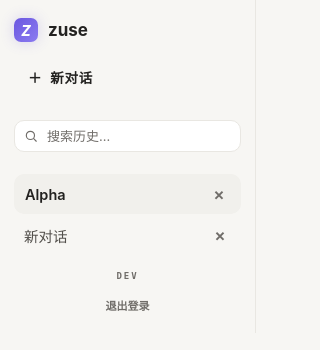
Test: Sidebar › clearing the search box restores the session list
In the field with placeholder "搜索历史…": (128, 136) [14, 120, 241, 152], type "needle"
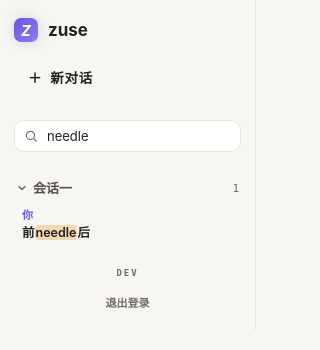
Check: the text "会话一" is shown, box [33, 180, 72, 196]
Clear the field with placeholder "搜索历史…": (128, 136) [14, 120, 241, 152]
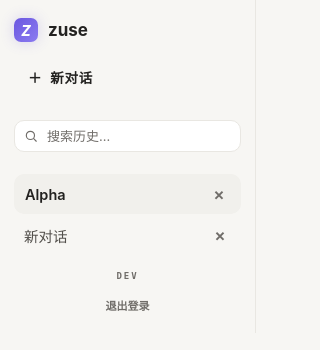
Check: the text "Alpha" is shown, box [25, 186, 66, 202]
Check: the button "会话一" is gone
